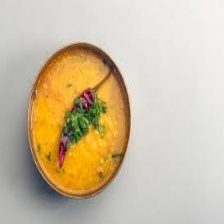dal: (28, 44, 130, 196)
